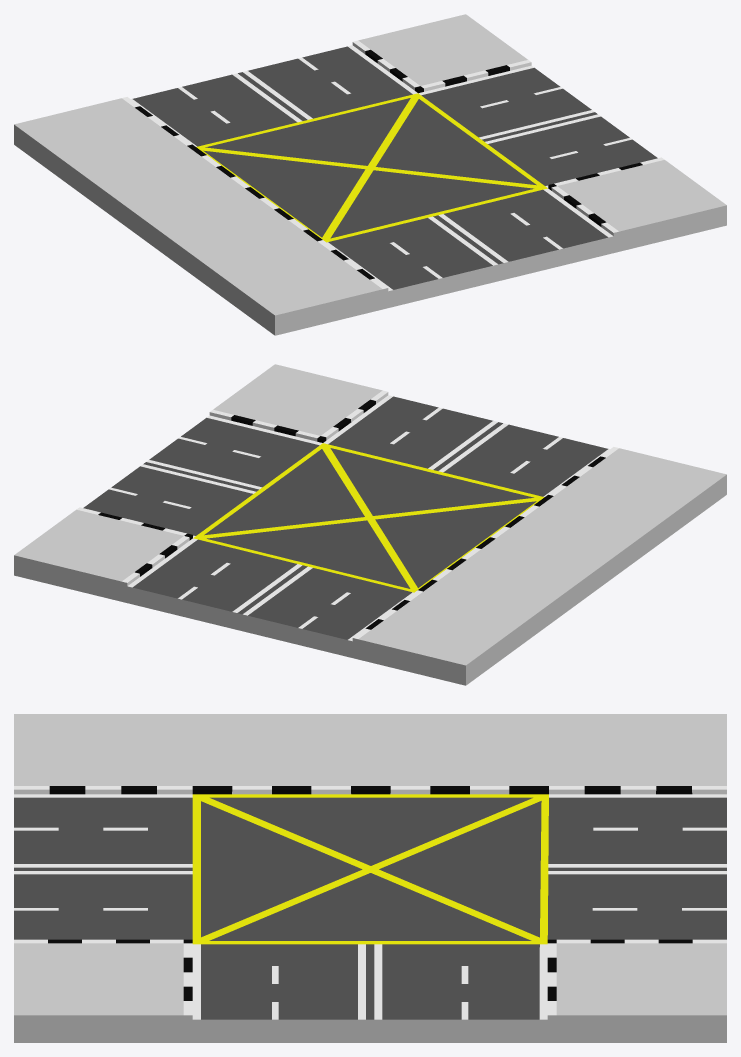
The model's file is Double lane t-junction road.FBX.
3 views of the same model, one above another, from view 1: azimuth 30°, elevation 25°; view 2: azimuth 150°, elevation 25°; view 3: azimuth 270°, elevation 25° (orthographic). The views are drawn at different scales.
Visible parts, largest first — view 1: double lane t-junction; view 2: double lane t-junction; view 3: double lane t-junction.
Part boxes in pixels (<box>): double lane t-junction: <box>14,14,726,335</box>; double lane t-junction: <box>14,364,726,685</box>; double lane t-junction: <box>14,714,726,1042</box>.
Size of the model in its own units: 1102 by 47.24 by 1103.
